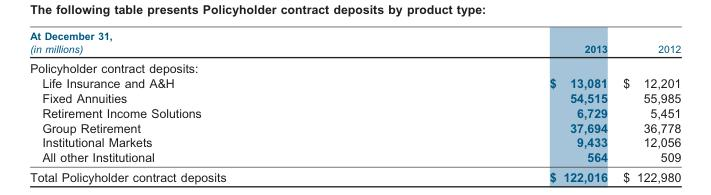table: (29, 29, 680, 163)
table column: (29, 29, 374, 163), (374, 29, 614, 163), (614, 29, 680, 163)
table column header: (29, 29, 680, 57)
table projected row header: (29, 57, 680, 75)
table row: (29, 29, 680, 57), (29, 57, 680, 75), (29, 89, 680, 104), (29, 104, 680, 119), (29, 119, 680, 134), (29, 134, 680, 149), (29, 75, 680, 89), (29, 149, 680, 163)
